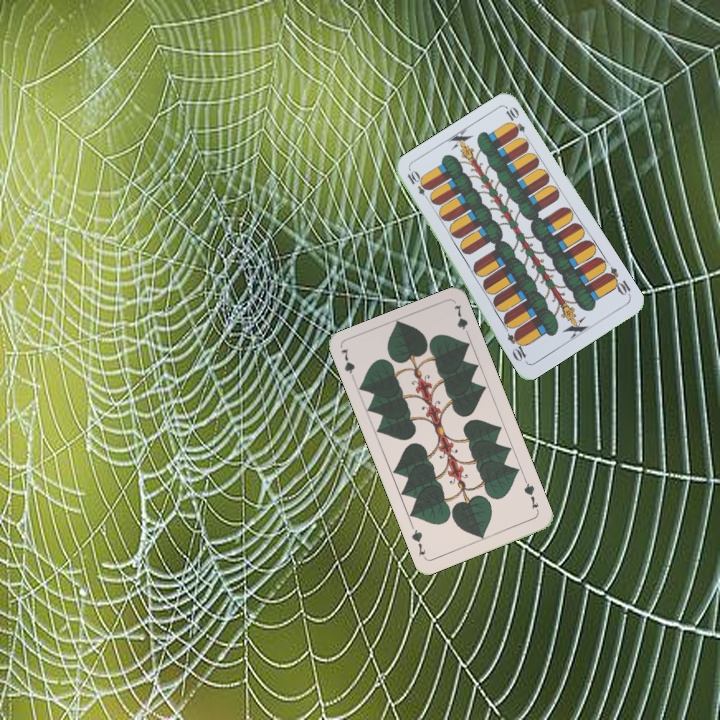E10: (601, 263, 633, 299), (403, 167, 433, 204)
G7: (336, 344, 358, 385), (520, 476, 542, 515)
